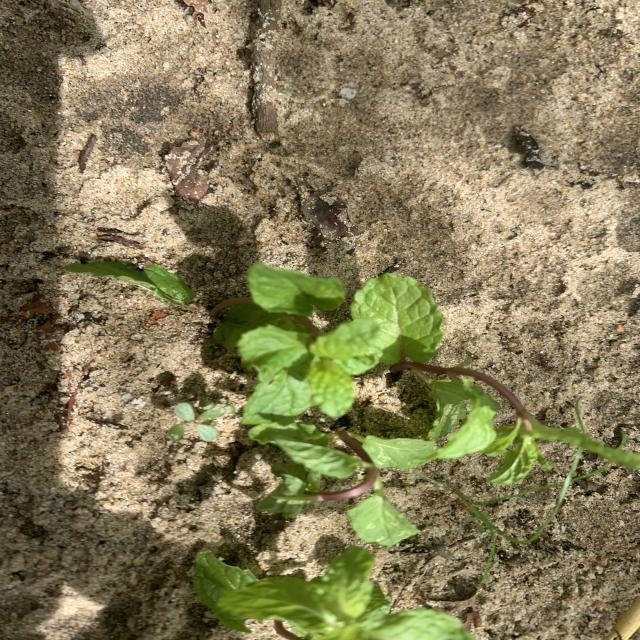crop: (351, 274, 640, 485), (66, 261, 381, 418), (193, 547, 475, 640), (248, 419, 434, 546)
weed: (455, 490, 565, 584), (168, 403, 235, 442)
